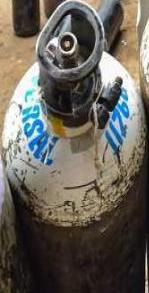cylinder: (1, 0, 149, 293)
